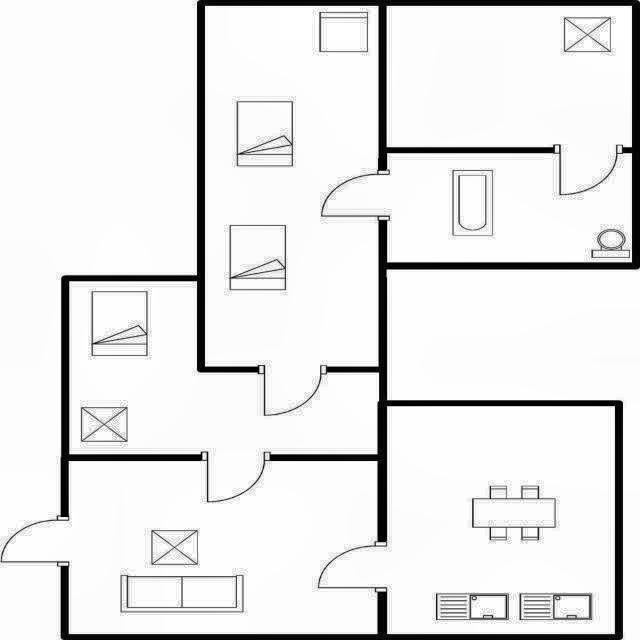room: (206, 6, 378, 367), (68, 280, 380, 454), (69, 461, 377, 634), (388, 406, 615, 634), (387, 154, 631, 262)
